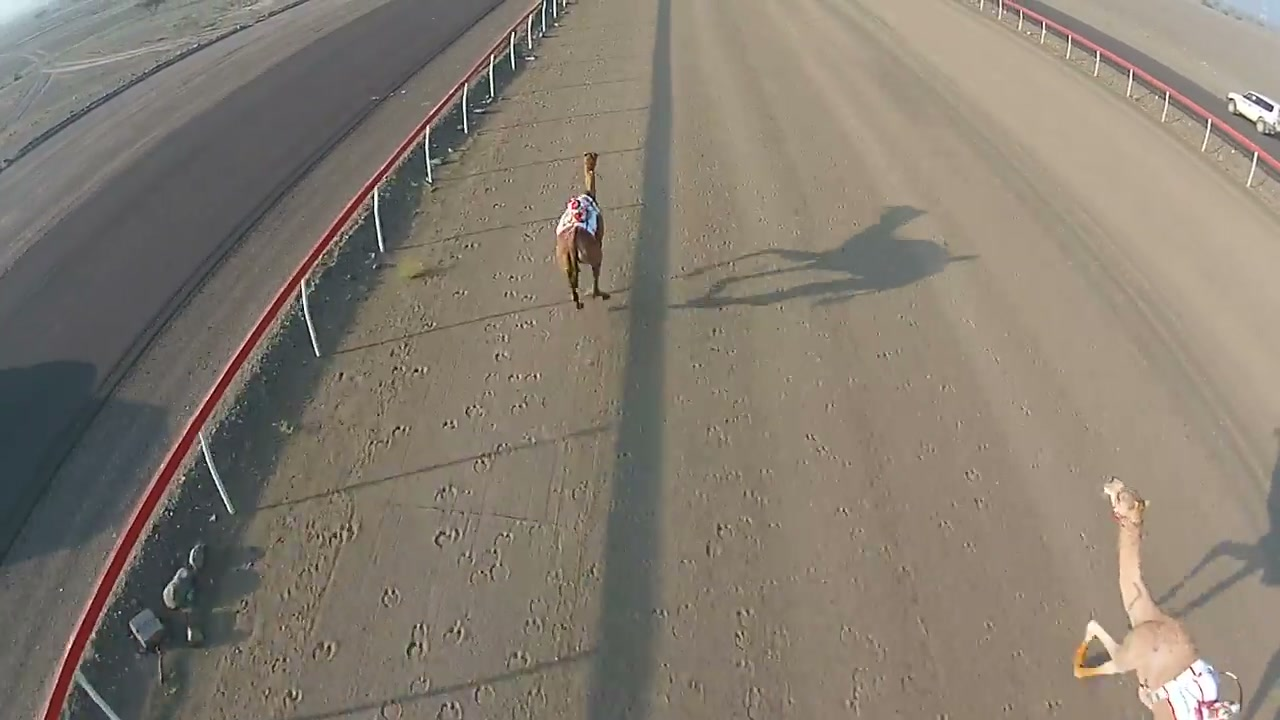animal_foot_print: (318, 244, 571, 709)
